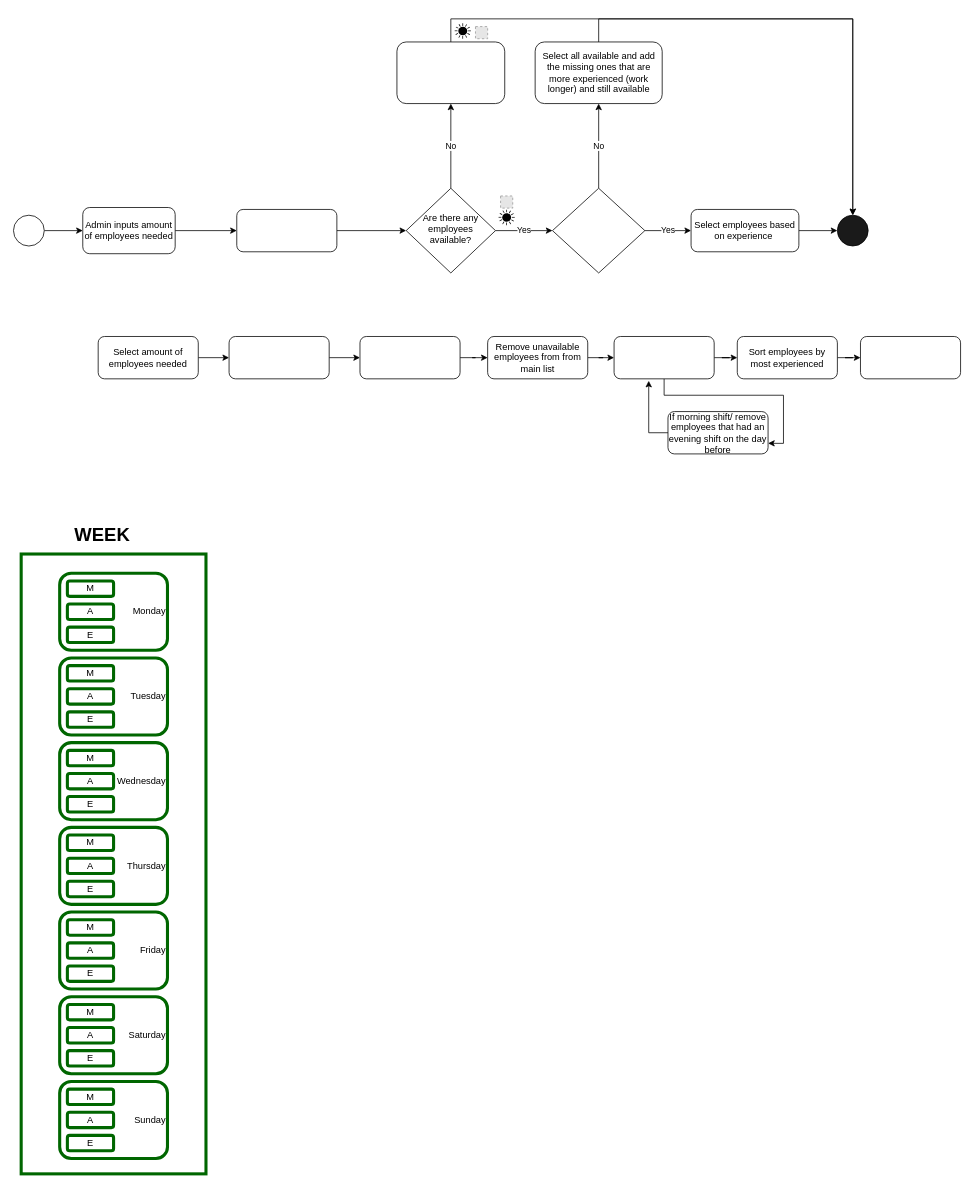
This 974x1189 diagram has some shape labels left out. Grey dashed boxes stand in for pictures. The centre of each missing label's shape, as x and y in pixels:
"Are there more employees available than needed?" belongs at pixel 598 230.
"Get a list of all employees" belongs at pixel 278 357.
"Get Employees availability for selected week" belongs at pixel 286 230.
"Pull the unavailable employees" belongs at pixel 409 357.
"Remove employees that are exceeding their hours" belongs at pixel 663 357.
"Select Employees that are more experienced (work longer) and still available" belongs at pixel 450 72.
"Take the amount of employees needed from the top of the list" belongs at pixel 910 357.
